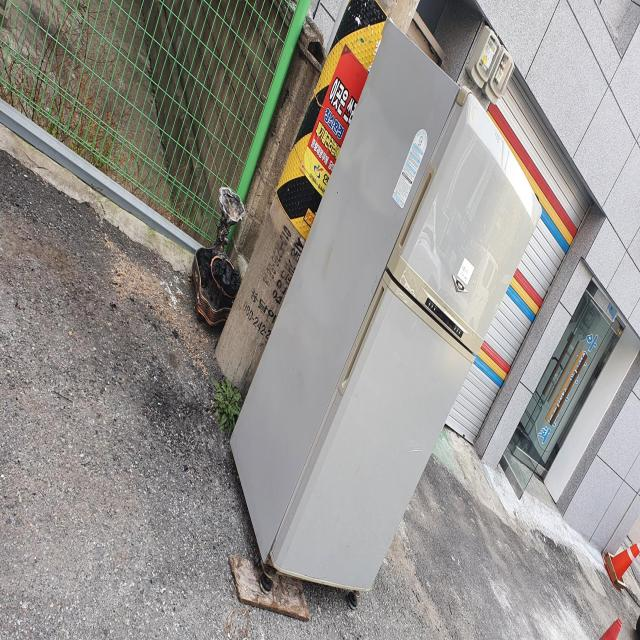refrigerator: (227, 20, 543, 613)
